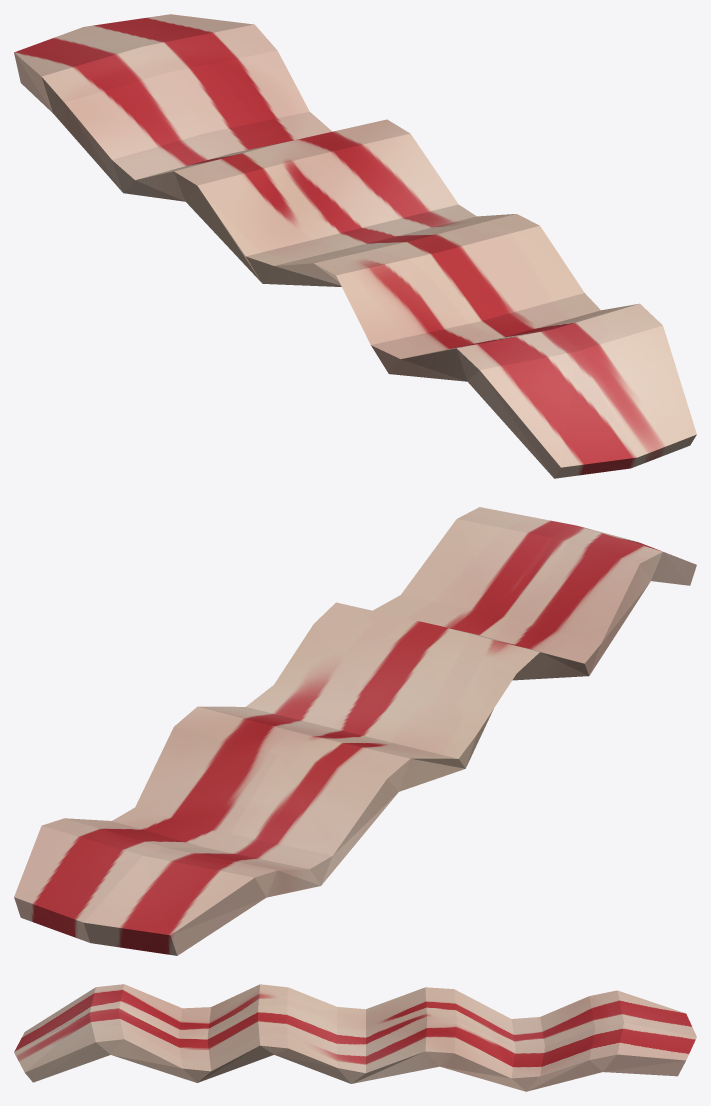
The model's file is food_slice_bacon.FBX.
The picture shows the model from 3 angles, top to bottom: view 1: azimuth 30°, elevation 25°; view 2: azimuth 150°, elevation 25°; view 3: azimuth 270°, elevation 25°; orthographic projection. The views are drawn at different scales.
Parts seen in each view (by area): view 1: food_slice_bacon; view 2: food_slice_bacon; view 3: food_slice_bacon.
Part boxes in pixels (<box>): food_slice_bacon: <box>14,14,696,478</box>; food_slice_bacon: <box>14,507,696,955</box>; food_slice_bacon: <box>14,984,696,1091</box>.
Bounding box in the file's own units: 49.22 × 18.04 × 221.
